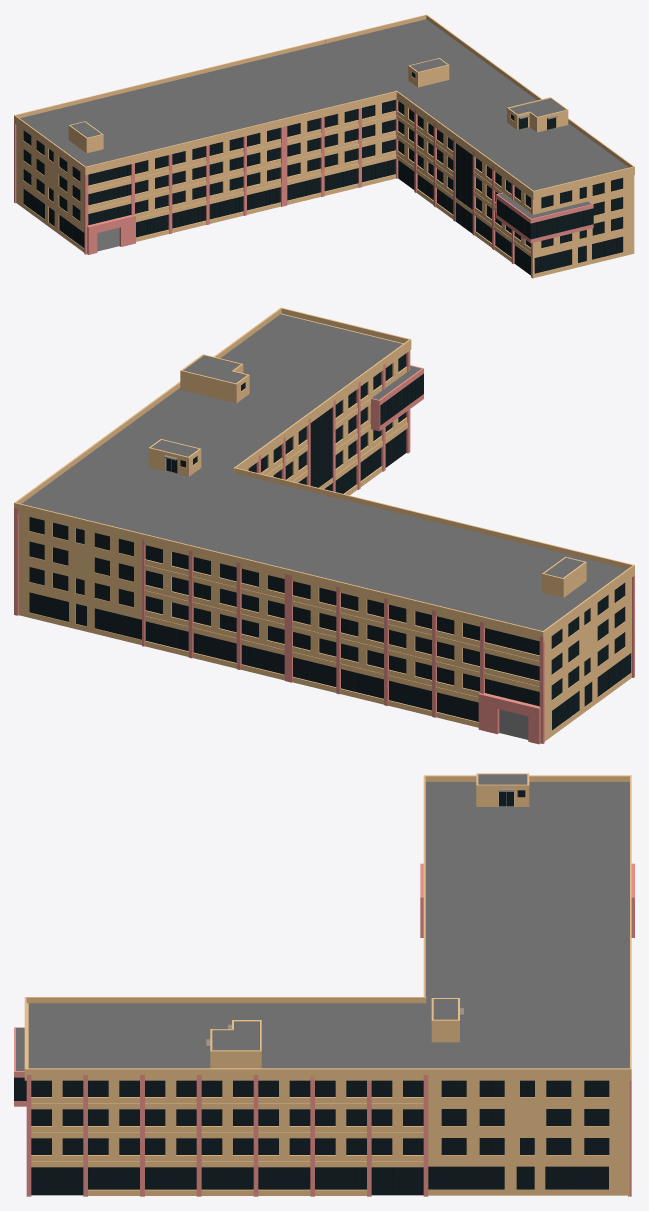
Rendered from factory1.fbx.
3 views of the same model, one above another, from view 1: azimuth 30°, elevation 25°; view 2: azimuth 150°, elevation 25°; view 3: azimuth 270°, elevation 25° (orthographic). The views are drawn at different scales.
Parts seen in each view (by area): view 1: Obj3d66-1710141-27-676, Obj3d66-1710141-22-359, Obj3d66-1710141-25-631, Obj3d66-1710141-24-1, Obj3d66-1710141-23-157, Obj3d66-1710141-26-457; view 2: Obj3d66-1710141-27-676, Obj3d66-1710141-22-359, Obj3d66-1710141-25-631, Obj3d66-1710141-24-1, Obj3d66-1710141-23-157, Obj3d66-1710141-26-457; view 3: Obj3d66-1710141-27-676, Obj3d66-1710141-22-359, Obj3d66-1710141-25-631, Obj3d66-1710141-24-1, Obj3d66-1710141-23-157.
Boxes of the visible parts, <box> form: Obj3d66-1710141-27-676: <box>20,19,628,218</box>; Obj3d66-1710141-22-359: <box>14,14,634,278</box>; Obj3d66-1710141-25-631: <box>23,72,622,274</box>; Obj3d66-1710141-24-1: <box>23,72,622,275</box>; Obj3d66-1710141-23-157: <box>14,99,593,278</box>; Obj3d66-1710141-26-457: <box>97,227,119,251</box>; Obj3d66-1710141-27-676: <box>22,314,627,630</box>; Obj3d66-1710141-22-359: <box>14,307,634,741</box>; Obj3d66-1710141-25-631: <box>29,353,630,729</box>; Obj3d66-1710141-24-1: <box>29,353,630,730</box>; Obj3d66-1710141-23-157: <box>14,350,634,744</box>; Obj3d66-1710141-26-457: <box>499,709,528,739</box>; Obj3d66-1710141-27-676: <box>16,774,629,1153</box>; Obj3d66-1710141-22-359: <box>24,773,631,1196</box>; Obj3d66-1710141-25-631: <box>14,790,608,1194</box>; Obj3d66-1710141-24-1: <box>14,790,609,1195</box>; Obj3d66-1710141-23-157: <box>14,863,634,1196</box>.
Size of the model in its own units: 87042 by 19800 by 77749.
